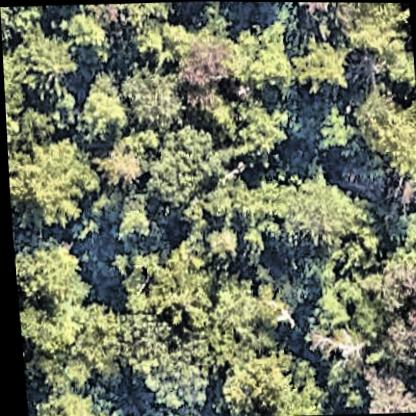tree-top: (6, 138, 110, 238), (11, 243, 97, 360), (136, 120, 231, 215), (115, 244, 217, 330), (69, 304, 180, 383), (347, 83, 416, 197), (206, 350, 323, 416), (277, 177, 370, 260), (203, 273, 286, 361), (224, 18, 303, 91), (131, 341, 209, 414), (115, 63, 189, 135), (372, 248, 416, 368), (73, 64, 131, 151), (286, 29, 357, 95), (9, 34, 83, 96), (125, 13, 197, 76), (231, 93, 297, 156), (304, 278, 375, 336), (343, 2, 412, 59), (19, 342, 89, 396), (172, 35, 234, 95), (231, 174, 287, 239), (303, 101, 360, 161), (59, 9, 120, 60), (103, 200, 159, 248), (356, 371, 416, 413), (22, 390, 113, 416), (0, 5, 52, 49), (2, 43, 36, 108), (102, 146, 141, 190), (201, 224, 240, 267)
